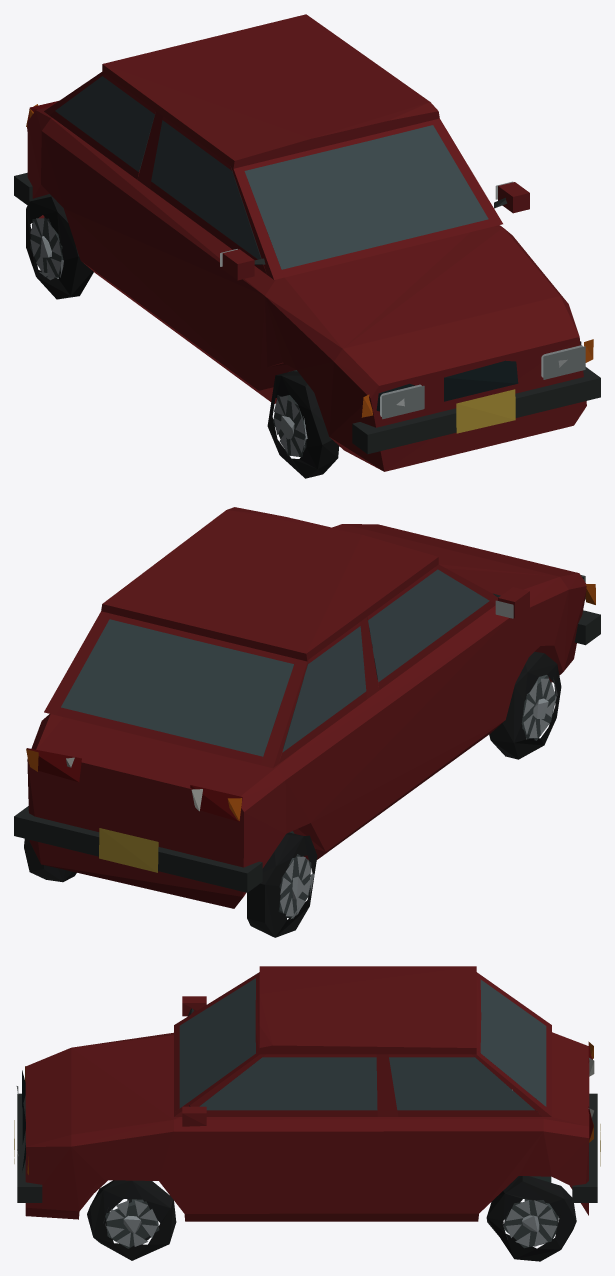
The model's file is kei-hatch-lod2.glb.
The picture shows the model from 3 angles, top to bottom: view 1: azimuth 30°, elevation 25°; view 2: azimuth 150°, elevation 25°; view 3: azimuth 270°, elevation 25°; orthographic projection. The views are drawn at different scales.
Parts seen in each view (by area): view 1: formed steel body; view 2: formed steel body; view 3: formed steel body.
Part boxes in pixels (bbox=[...]): formed steel body: bbox=[14, 14, 600, 478]; formed steel body: bbox=[14, 507, 600, 937]; formed steel body: bbox=[14, 966, 600, 1261].
Bounding box in the file's own units: 1.63 × 1.35 × 3.43.
